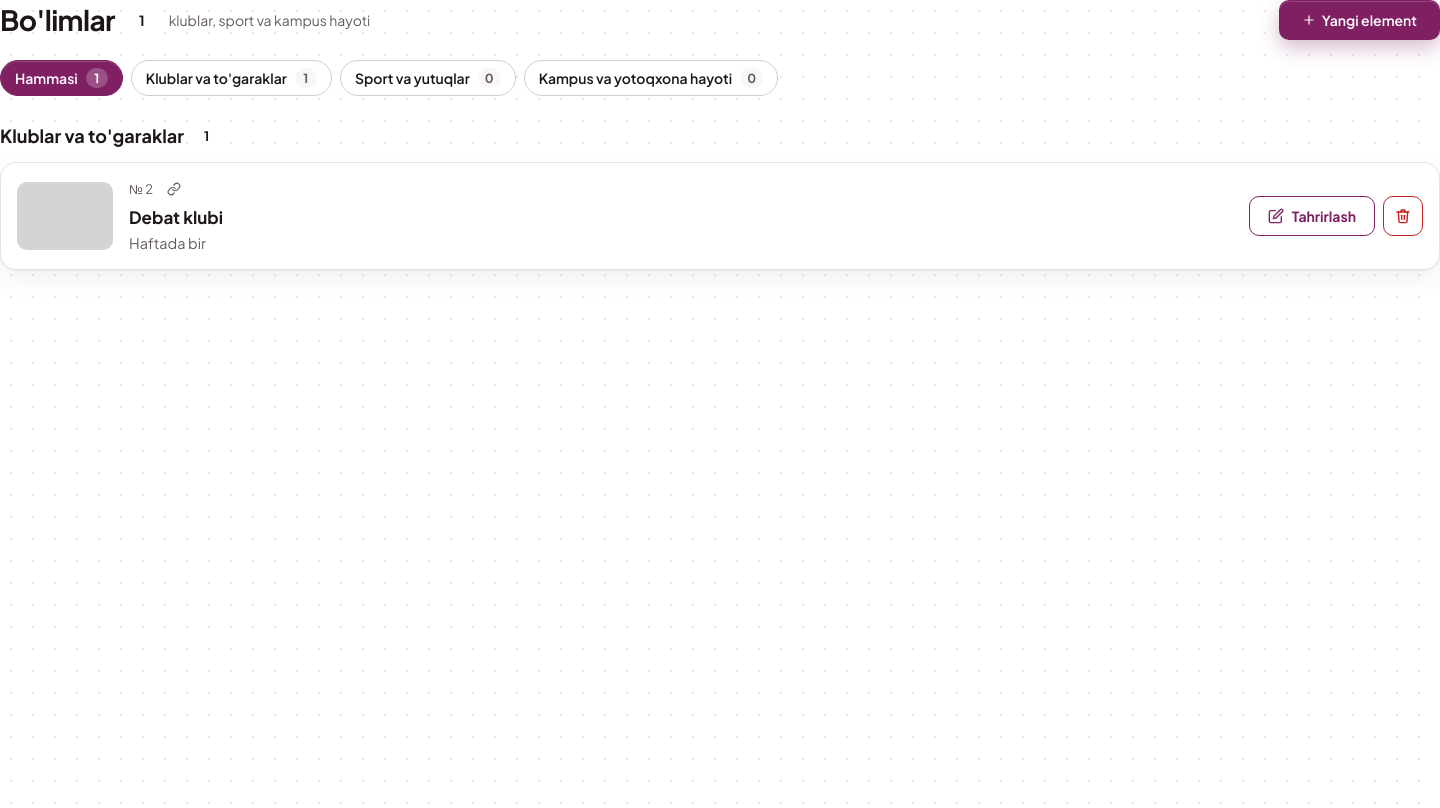
SectionsAdmin: forma › tartib raqami -1 rad etiladi
Expected: the heading "Debat klubi" is shown, 129,206 -> 223,228
Click the button "Yangi element" at x=1359, y=20, box 1279,0 -> 1439,40
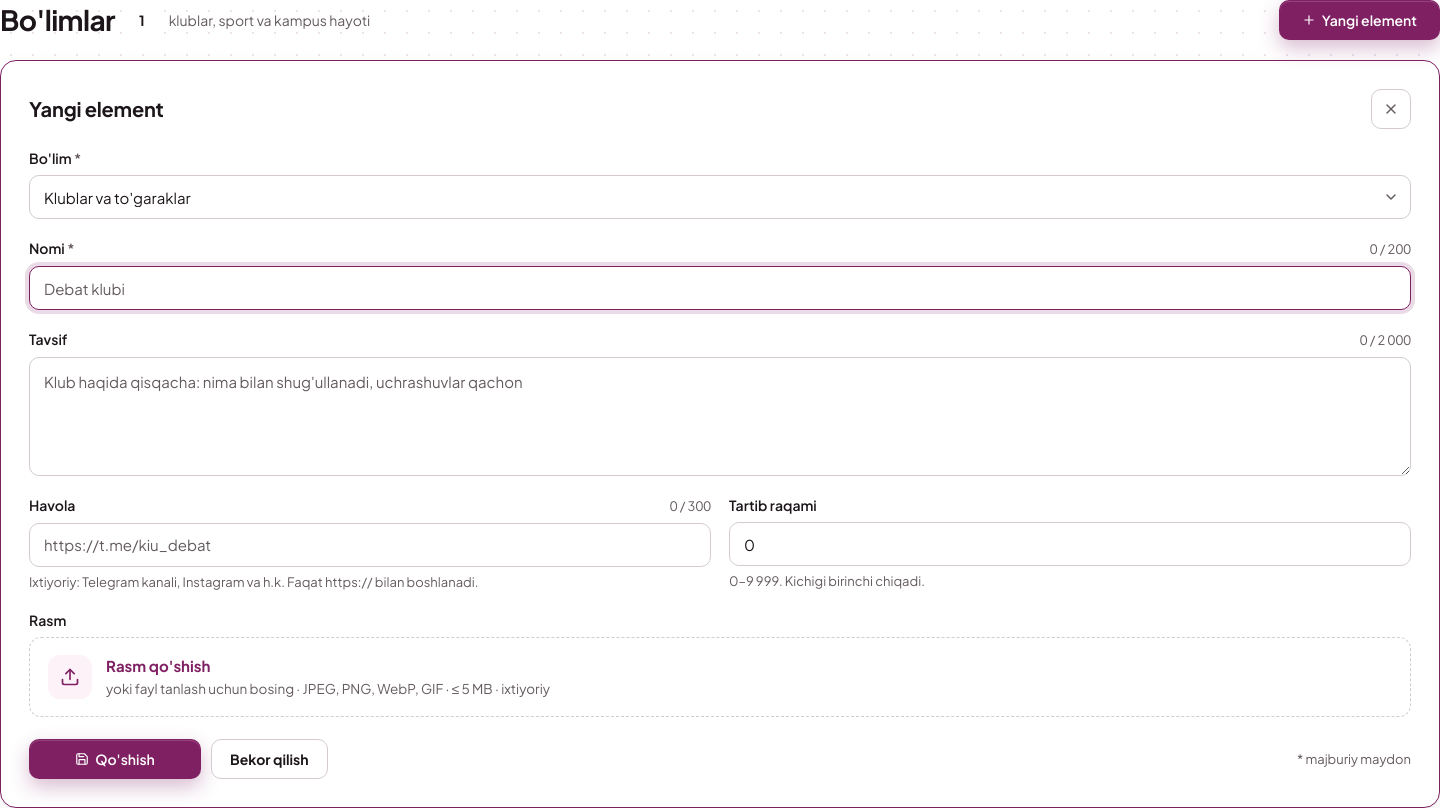
Type "Klub" into the field labelled "Nomi *" at x=720, y=288, box 29,266 -> 1411,310
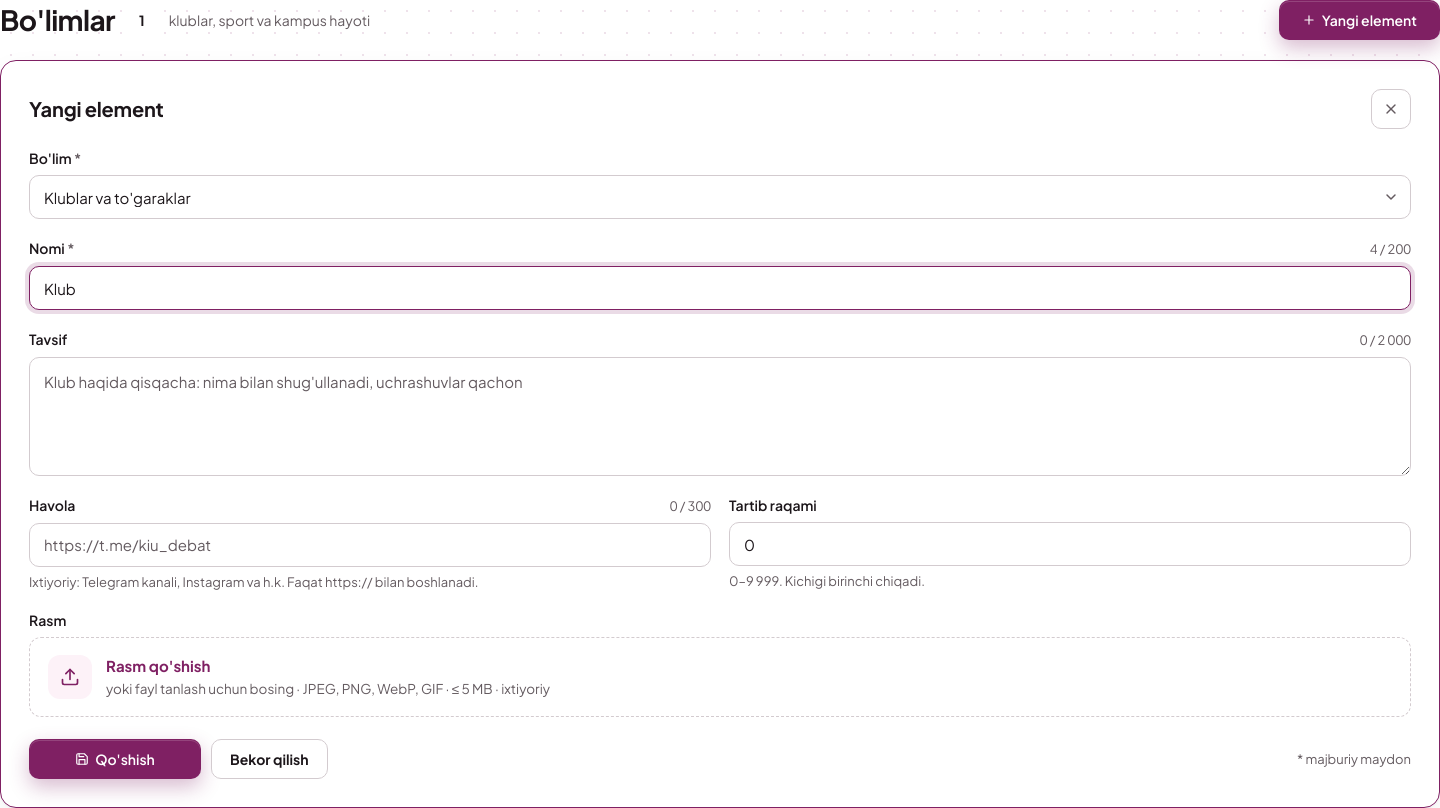
Replace the text in the number field labelled "Tartib raqami" with "-1" at x=1070, y=544, box 729,522 -> 1411,566
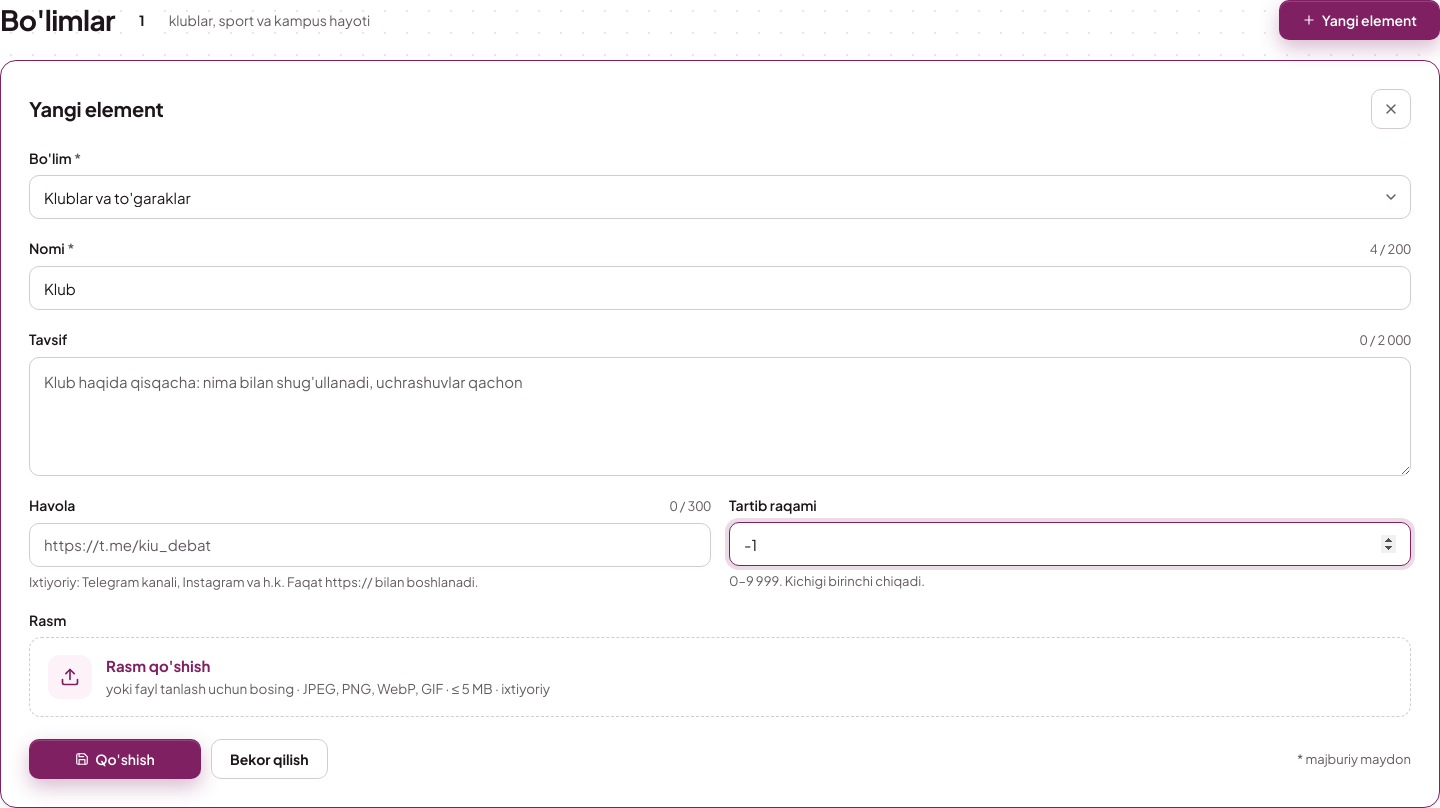
Click the button "Qo'shish" at x=115, y=759, box 29,739 -> 201,779
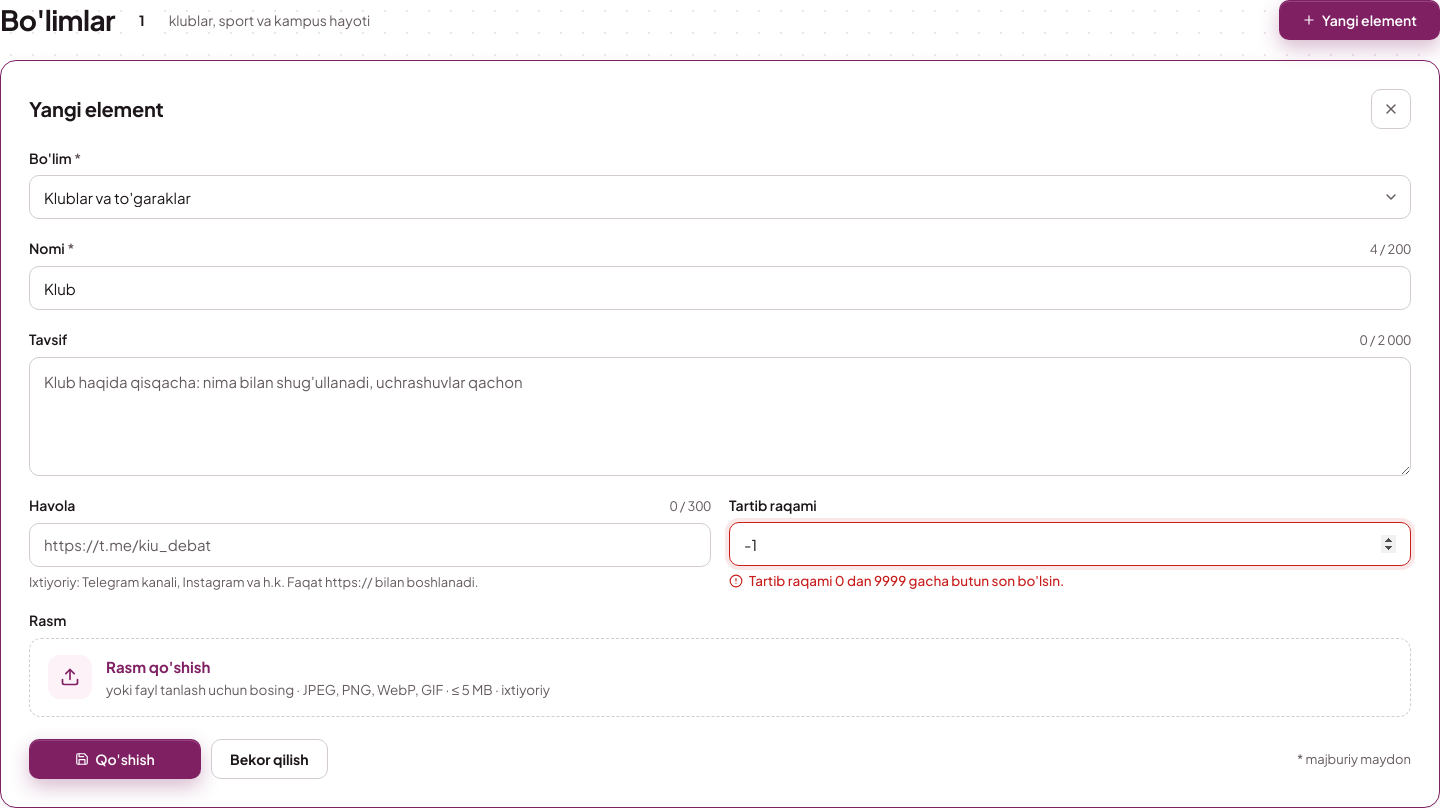
Expected: the text "Tartib raqami 0 dan 9999 gacha butun son bo'lsin." is shown, 749,572 -> 1064,591
